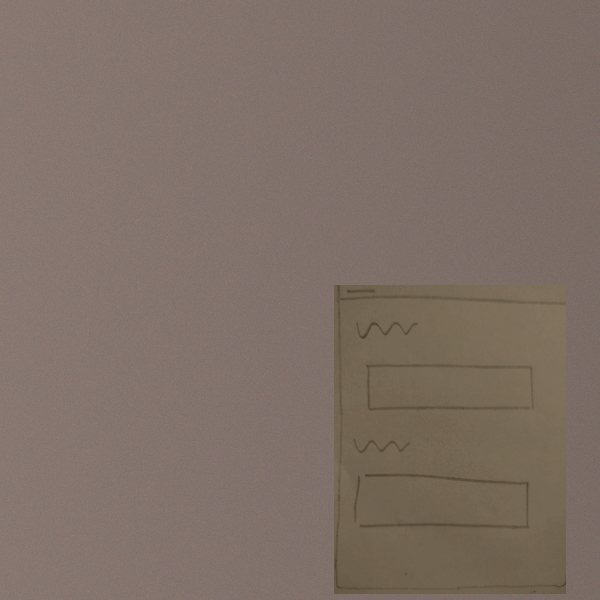text: (352, 315, 420, 343), (347, 433, 416, 460)
text_input: (352, 470, 533, 532), (363, 359, 536, 416)
